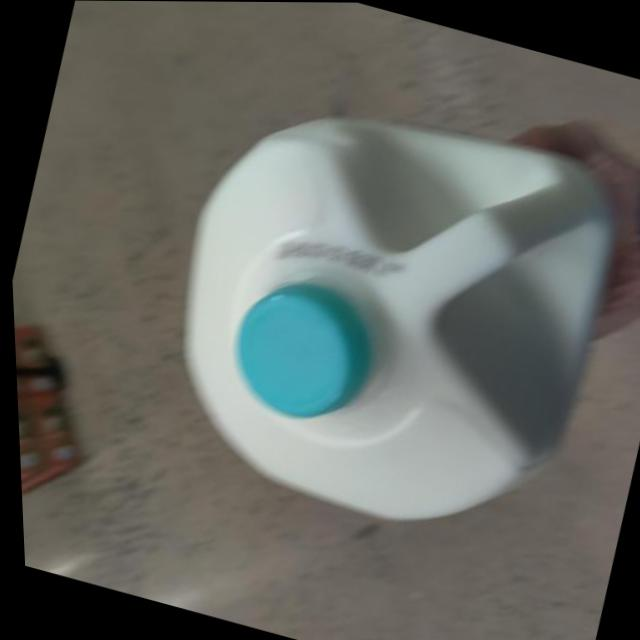Cucumber: (140, 74, 635, 553)
